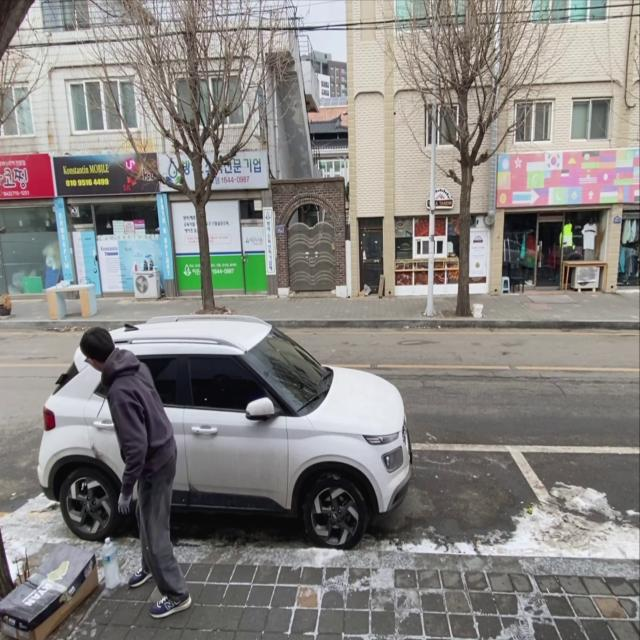gloved_hand: (111, 484, 134, 517)
